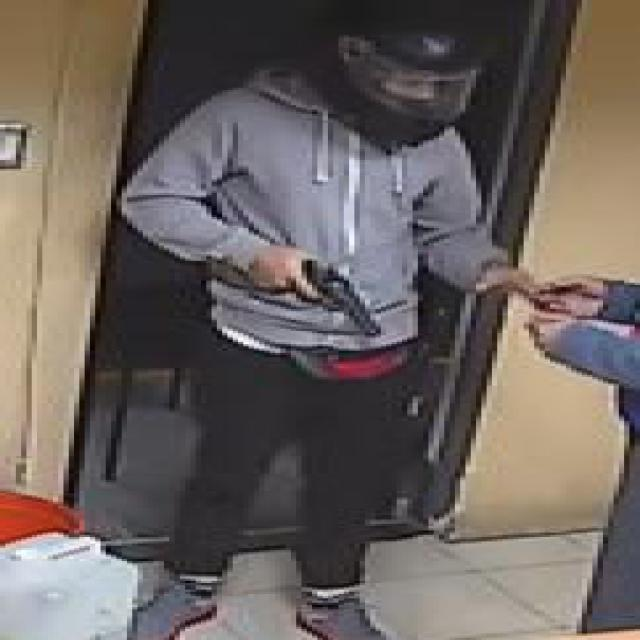gun: (248, 248, 386, 338)
